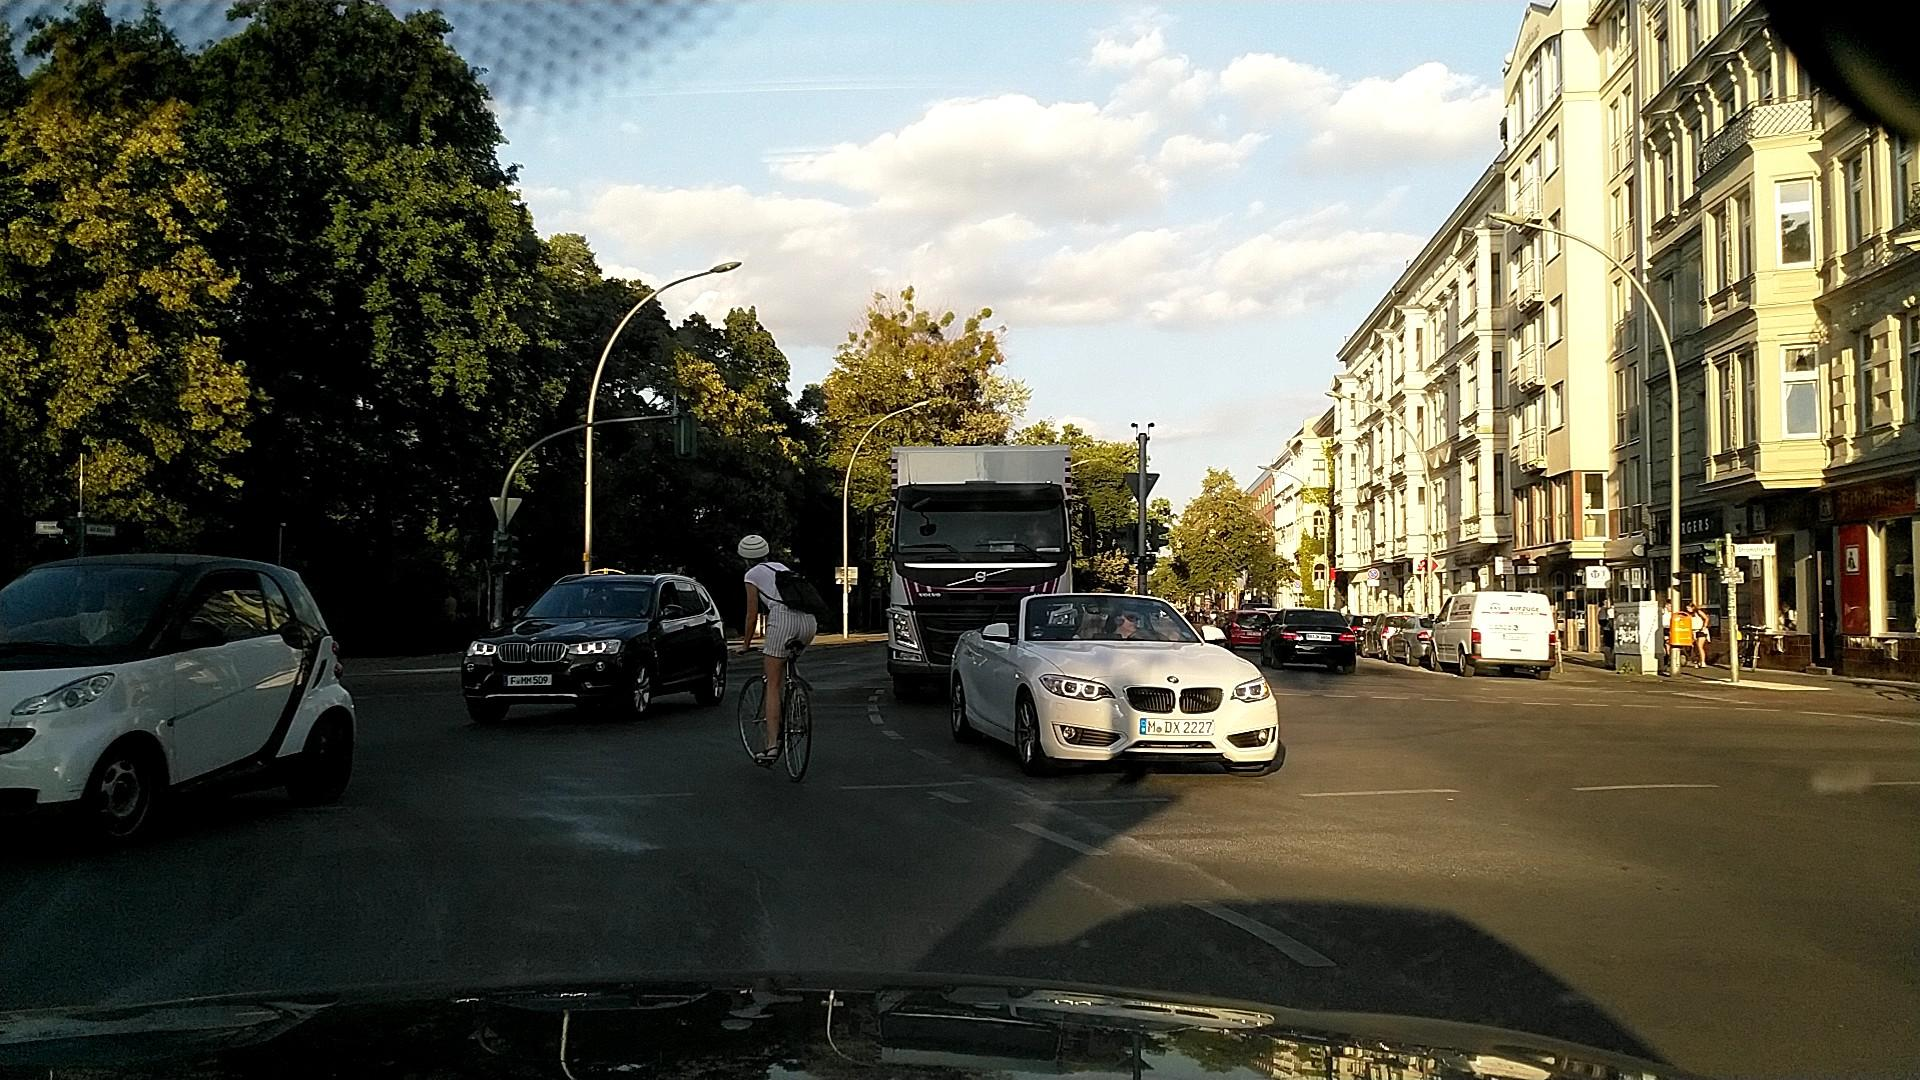Human face: (1114, 608, 1139, 632), (1024, 512, 1040, 530), (1685, 603, 1694, 613), (1665, 600, 1672, 612)
Vehicle registration plate: (1139, 719, 1215, 736), (503, 674, 552, 686), (1305, 633, 1332, 641), (1502, 633, 1529, 641)
